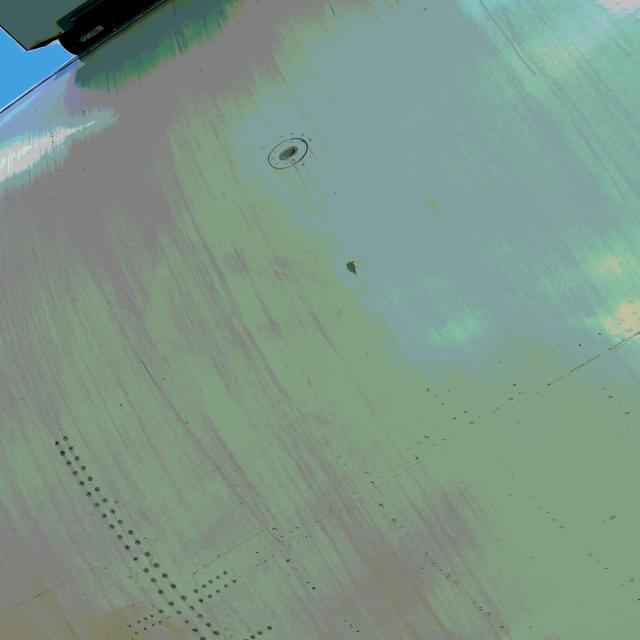crack: (134, 355, 157, 378), (348, 262, 364, 278)
